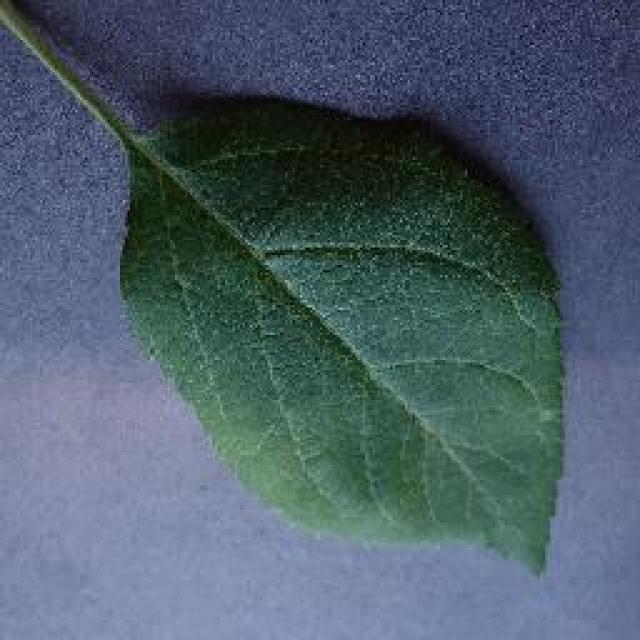apple healthy: (112, 90, 568, 575)
